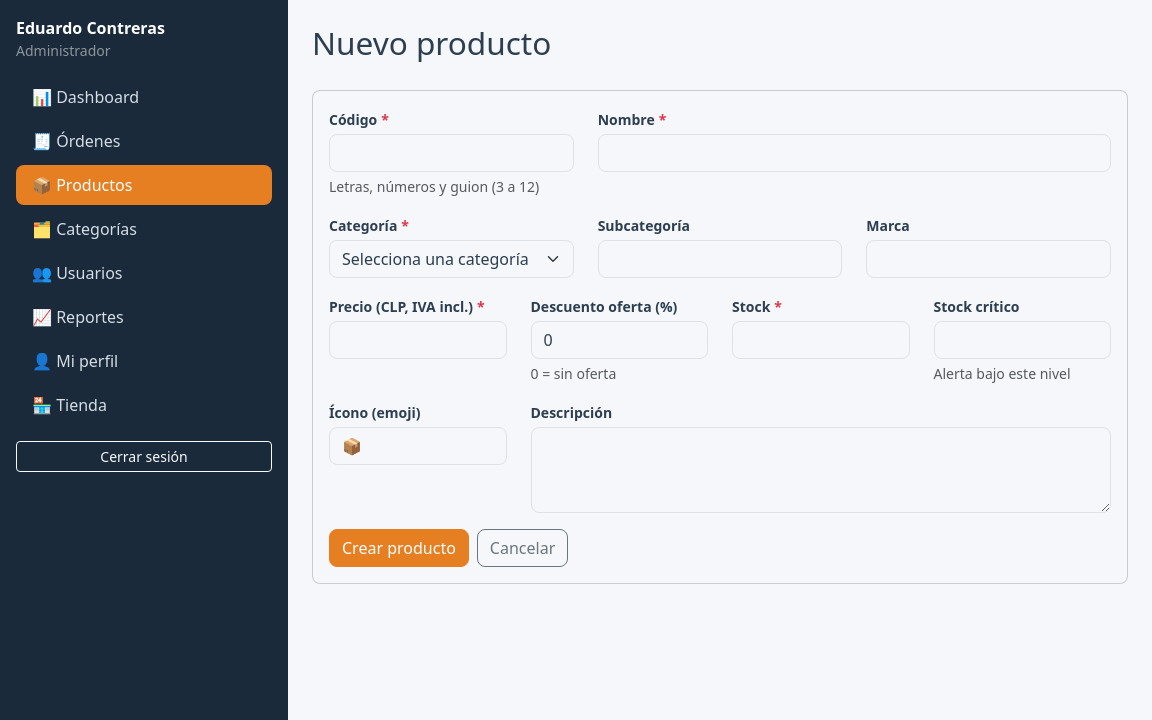
Test: Productos (CRUD) › valida el formulario: campos vacíos, precio inválido y código repetido
Click the button "Crear producto". click: [399, 548]
box: [329, 529, 469, 567]
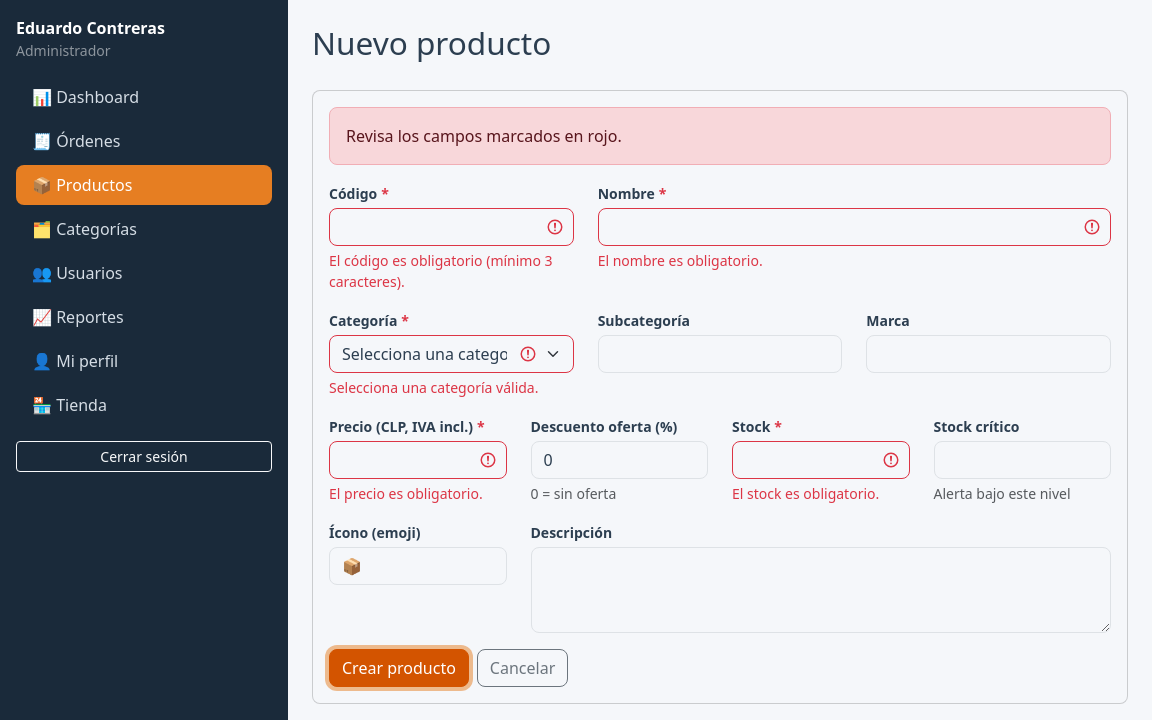
Expected: the text "Revisa los campos marcados en rojo." is shown, [329, 107, 1111, 165]
Expected: the text "El nombre es obligatorio." is shown, [598, 251, 763, 270]
Expected: the text "Selecciona una categoría válida." is shown, [329, 377, 574, 398]
Type "mc001" into the field labelled "Código*". click: [451, 227]
box: [329, 208, 574, 246]
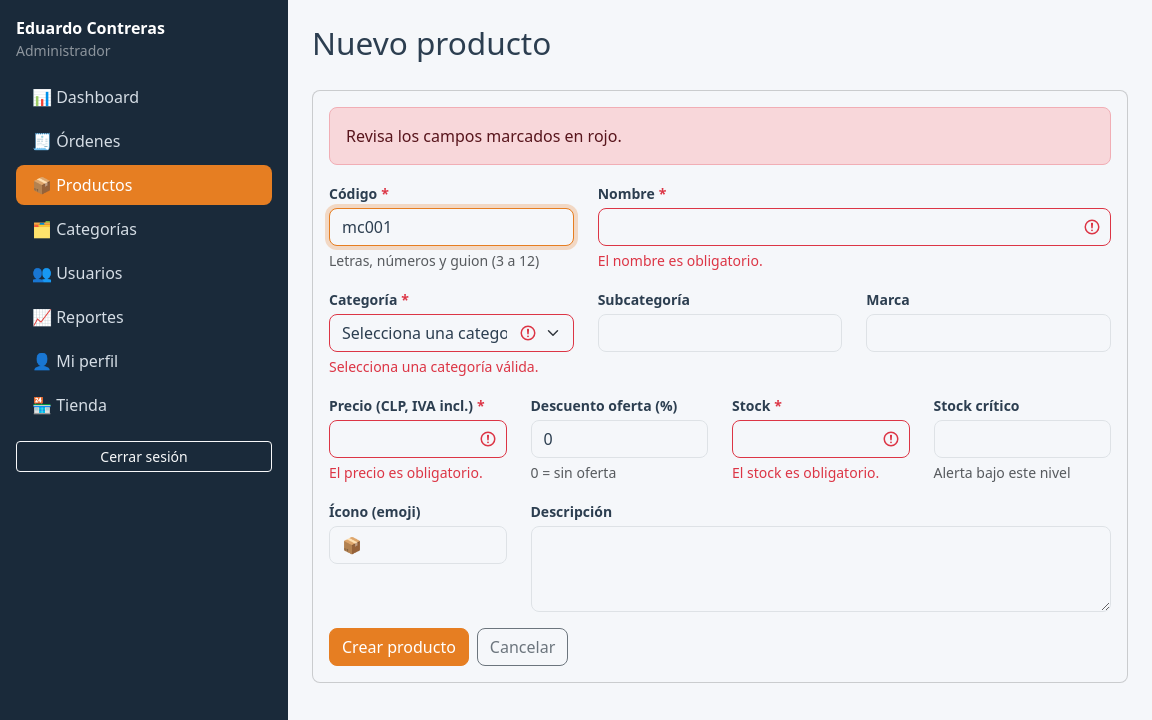
Type "Repetido" into the field labelled "Nombre*". click: [854, 227]
box: [598, 208, 1111, 246]
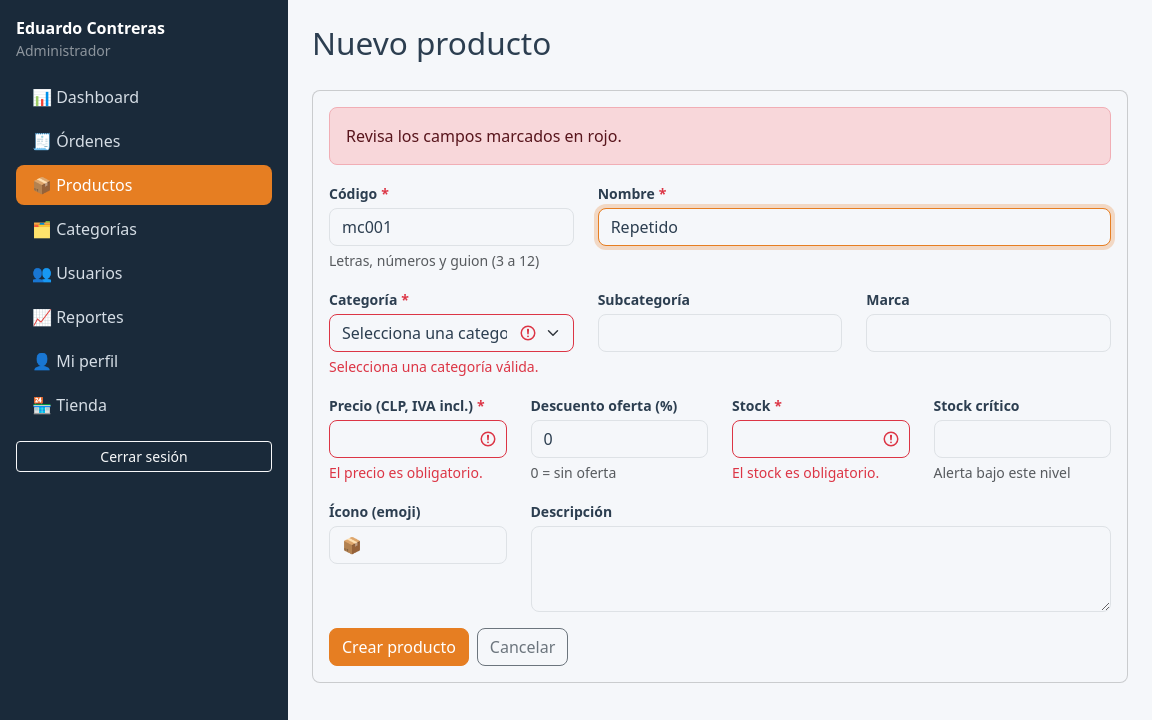
Click the button "Crear producto". click: [399, 647]
box: [329, 628, 469, 666]
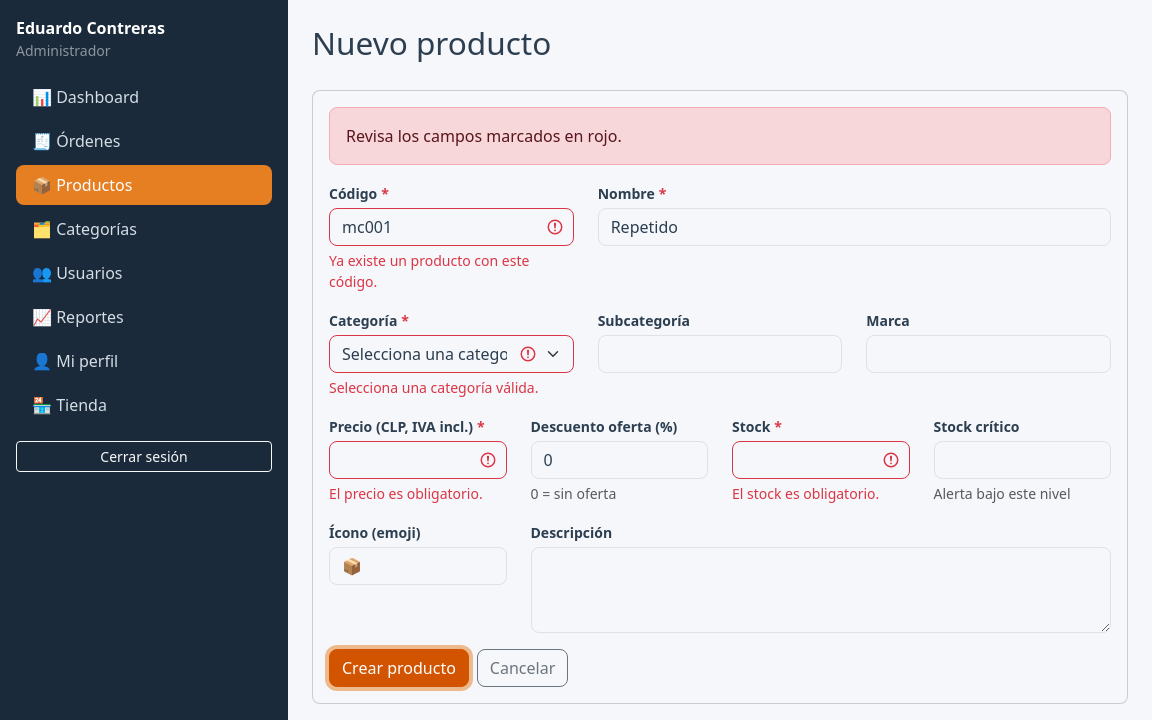
Expected: the text "Ya existe un producto con este código." is shown, [329, 251, 529, 291]
